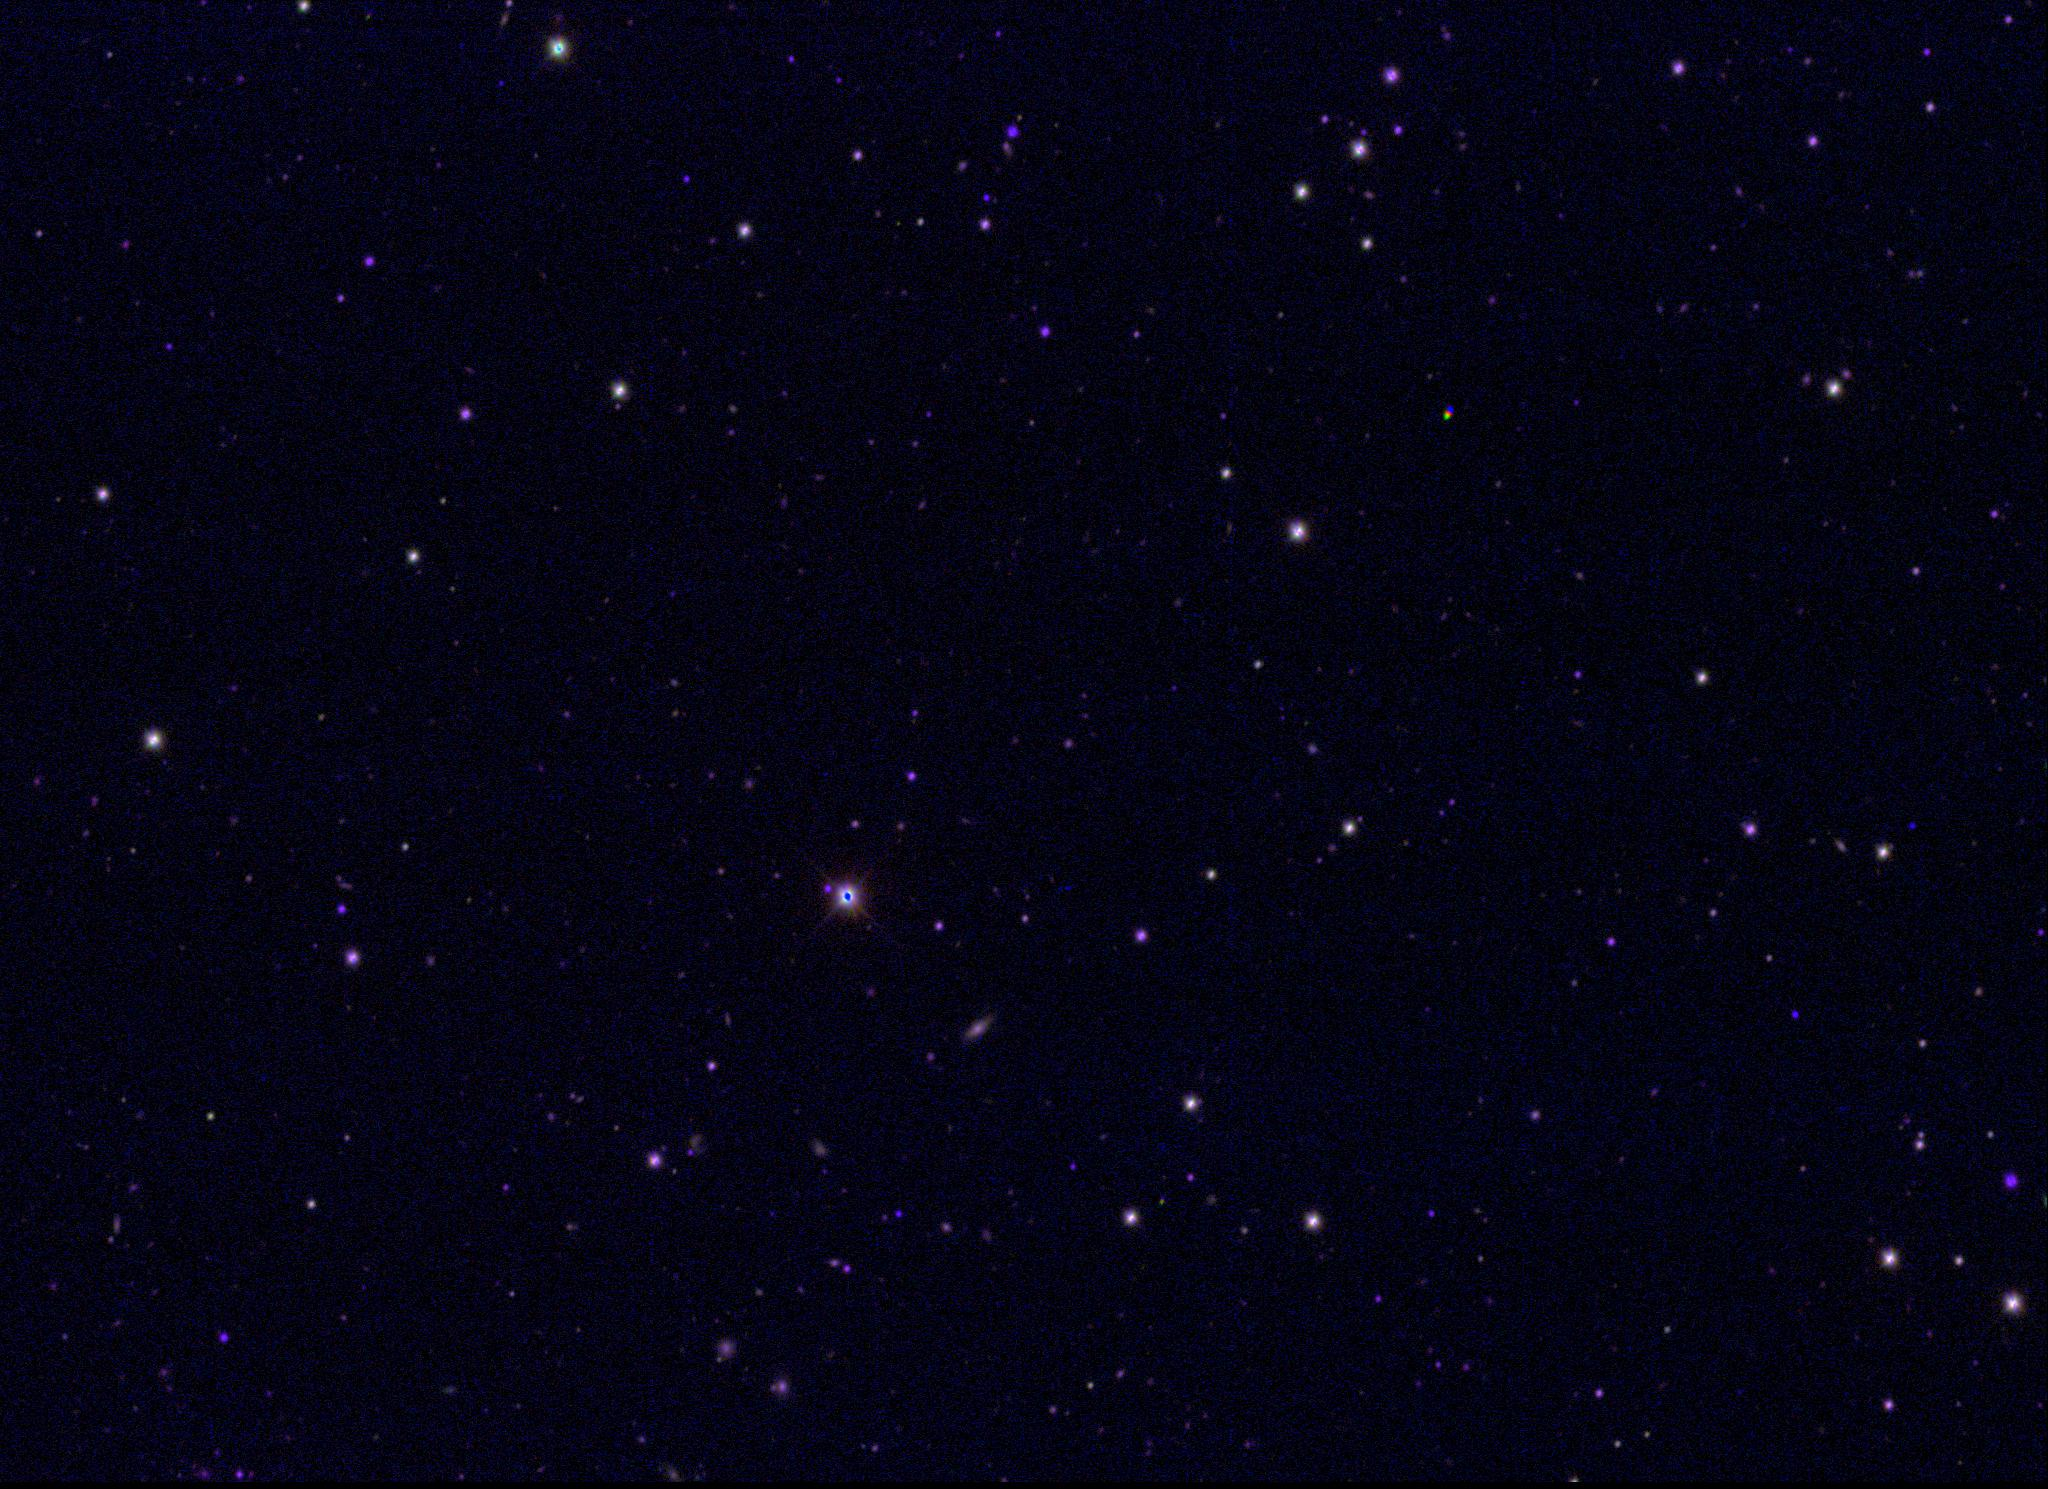L: (1906, 819, 1921, 834)
